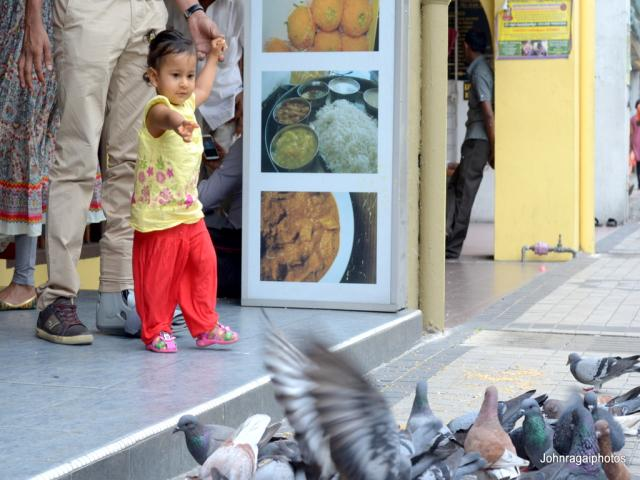Bird: (172, 305, 638, 480), (464, 382, 530, 480), (563, 350, 640, 394)
